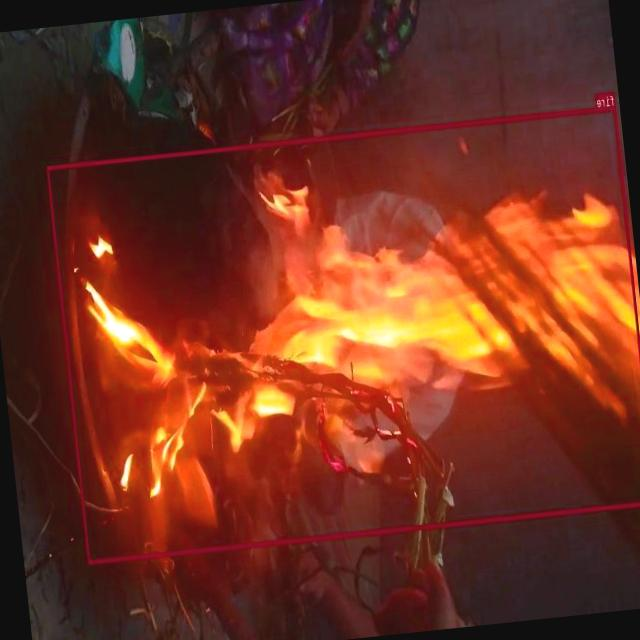fire: (46, 104, 640, 562)
